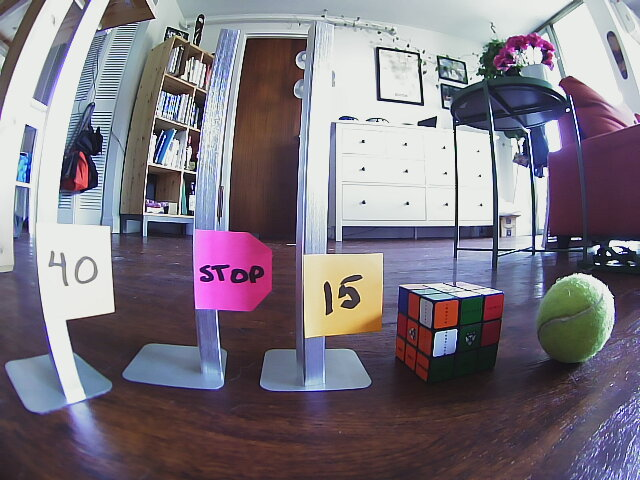15: (303, 257, 382, 330)
40: (37, 227, 112, 314)
ball: (537, 269, 614, 369)
cube: (395, 282, 503, 377)
stop: (193, 240, 268, 310)
